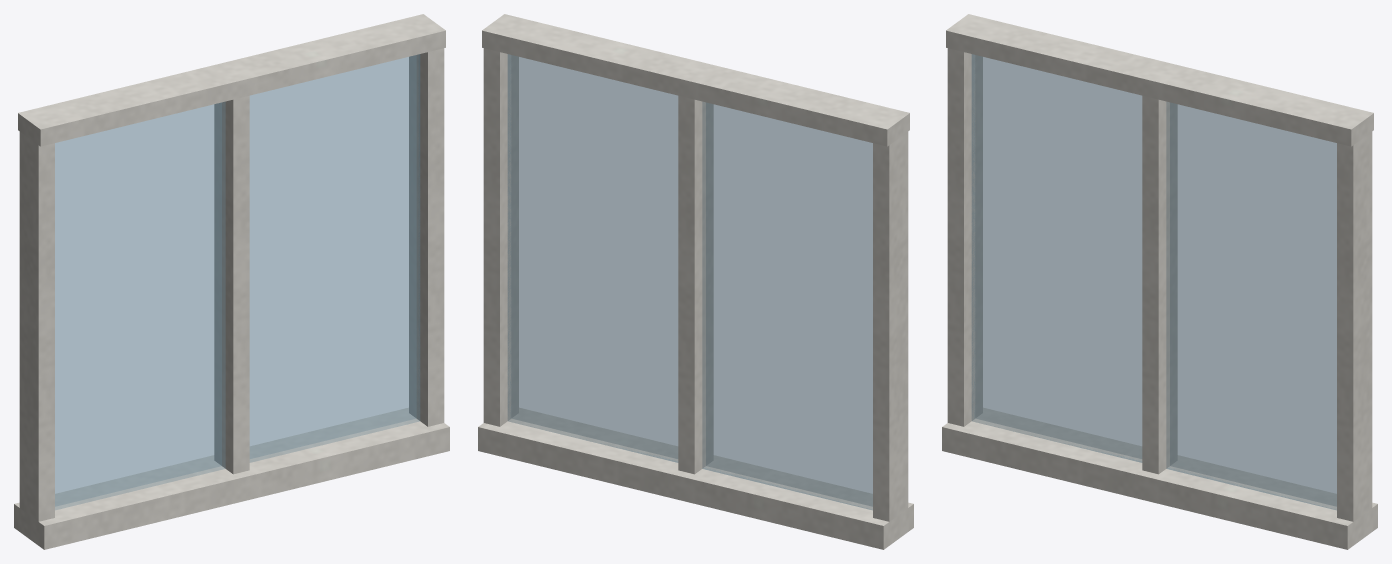
Rendered from window.obj.
3 views of the same model, side by side, from view 1: azimuth 30°, elevation 25°; view 2: azimuth 150°, elevation 25°; view 3: azimuth 330°, elevation 25° (orthographic).
Parts seen in each view (by area): view 1: window; view 2: window; view 3: window.
Part boxes in pixels (left/top/right/bottom): window: left=14, top=14, right=449, bottom=549; window: left=478, top=14, right=913, bottom=549; window: left=942, top=14, right=1377, bottom=549.
Bounding box in the file's own units: 1.24 × 1.22 × 0.16.
Materials: 2 (1 with a texture image).
